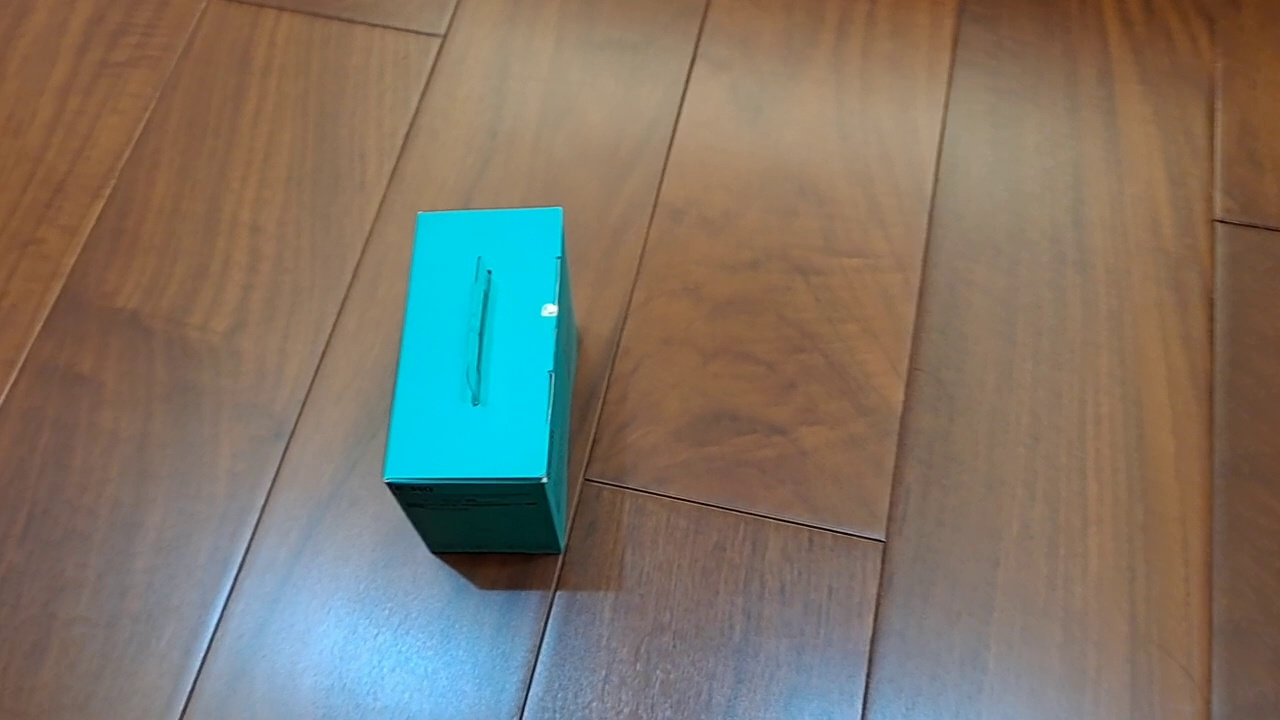webcam: (381, 204, 581, 556)
